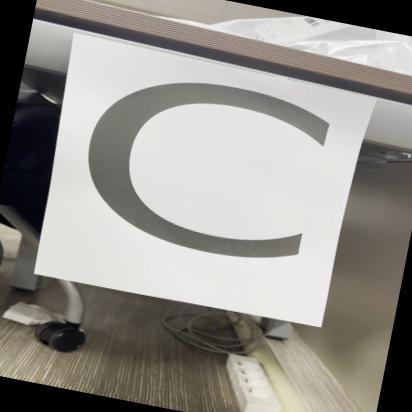seat: (31, 31, 372, 328)
